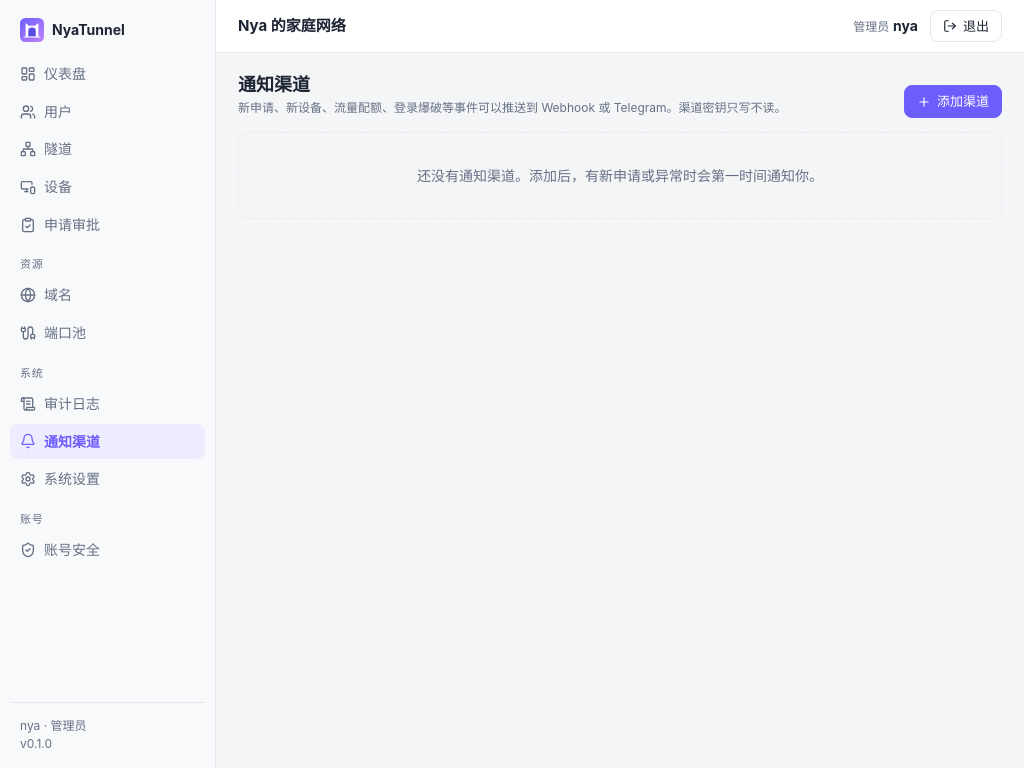
Scenario: audit labels › labels the abuse report notification event
Click the button "添加渠道" at (953, 102), box [904,86,1002,118]
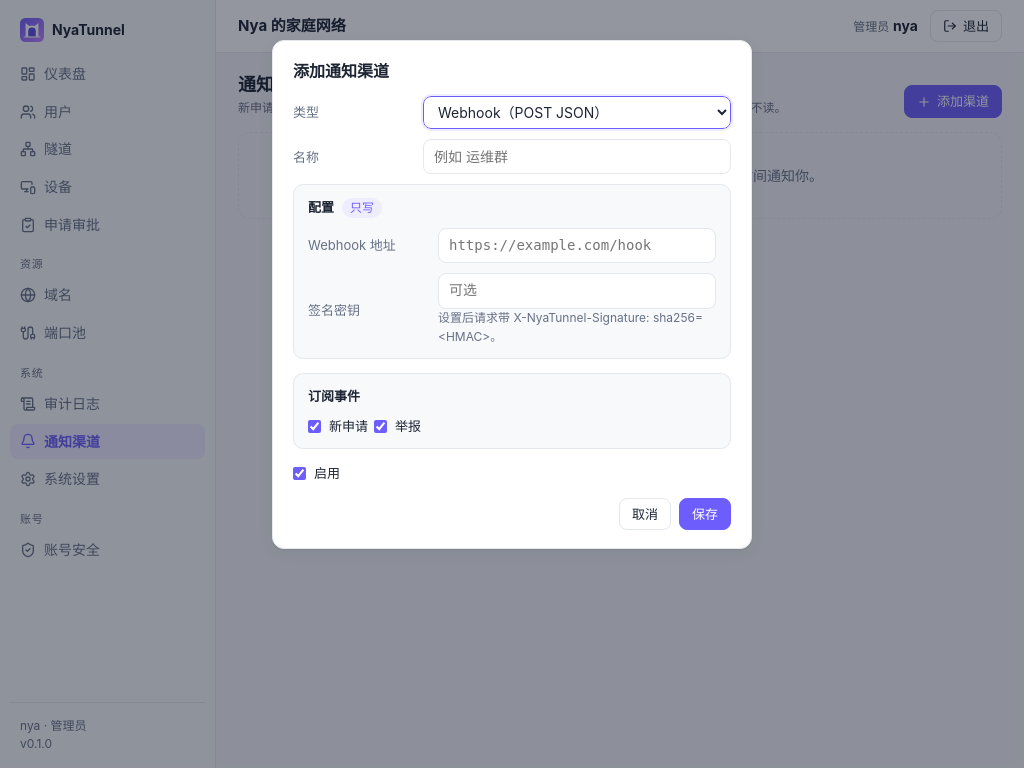
Check: the checkbox labelled "举报" is checked, box [374,420,387,433]
